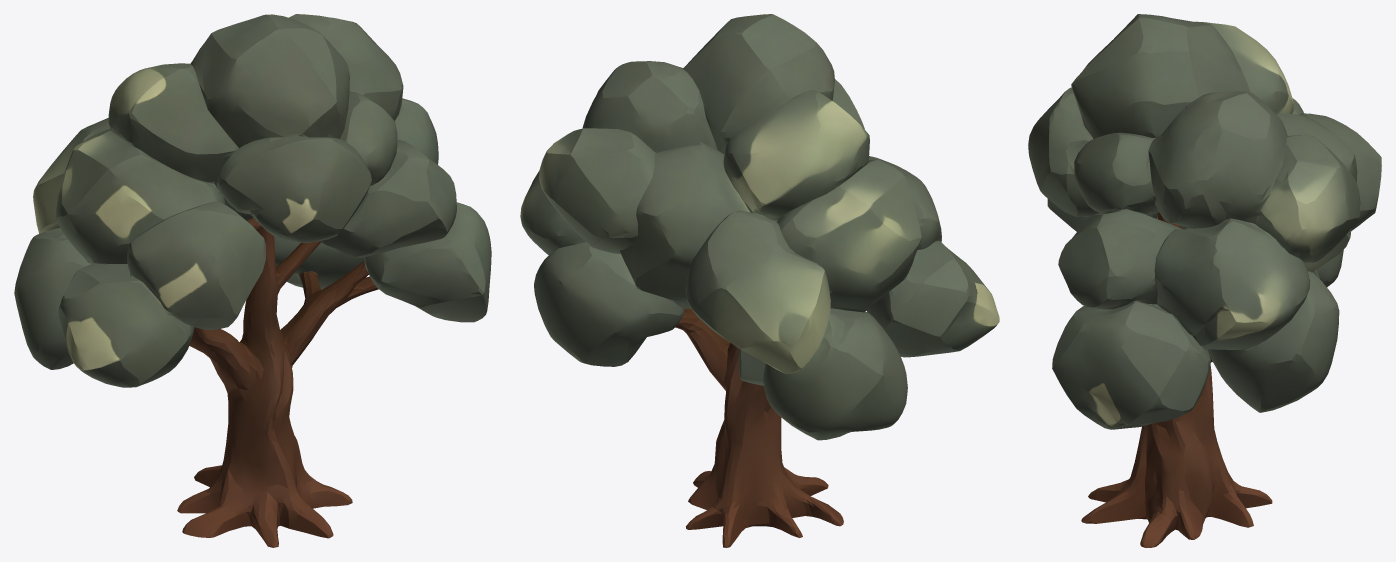
The model's file is base_basic_pbr.glb.
3 views of the same model, side by side, from view 1: azimuth 30°, elevation 25°; view 2: azimuth 150°, elevation 25°; view 3: azimuth 270°, elevation 25° (orthographic). The views are drawn at different scales.
Parts seen in each view (by area): view 1: Mesh; view 2: Mesh; view 3: Mesh.
Part boxes in pixels (<box>): Mesh: <box>14,14,491,547</box>; Mesh: <box>520,14,999,547</box>; Mesh: <box>1028,14,1381,547</box>.
Bounding box in the file's own units: 1.73 × 1.89 × 1.23.
1 material, 1 textured.
